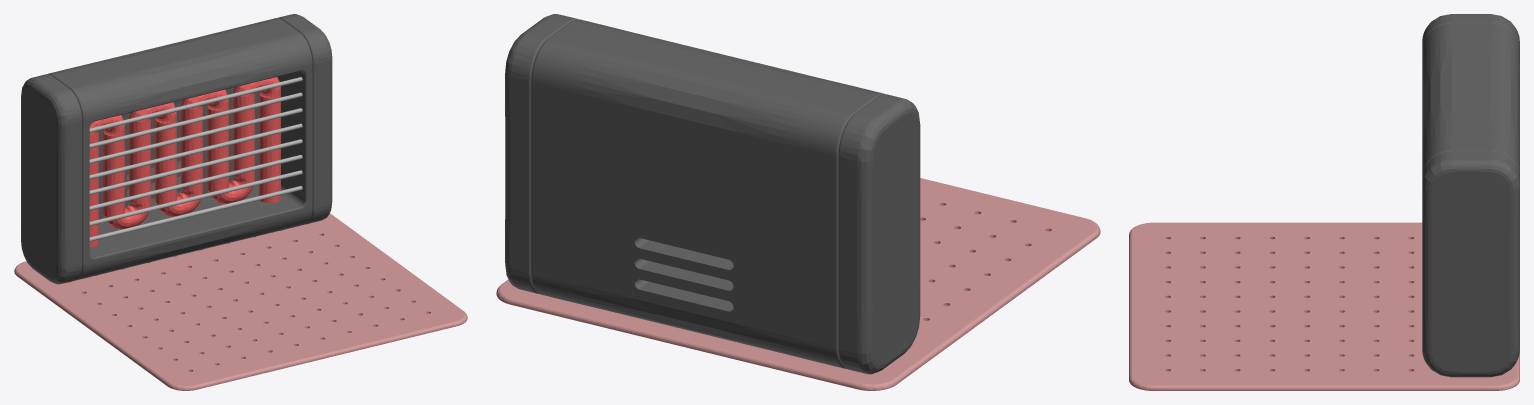
File: Heater.fbx
3 renders of one model, left to right at view 1: azimuth 30°, elevation 25°; view 2: azimuth 150°, elevation 25°; view 3: azimuth 270°, elevation 25°, orthographic. The views are drawn at different scales.
Visible parts, largest first — view 1: 개체_13, 개체_1, 개체_2, 개체_12, 개체_11, 개체_7, 개체_8, 개체_10, 개체_3, 개체_4, 개체_5, 개체_6 (+1 smaller); view 2: 개체_1, 개체_13, 개체_12, 개체_11; view 3: 개체_13, 개체_11, 개체_1, 개체_12.
Part boxes in pixels (box(x1,y1,x2,y2)): 개체_13: box(14, 213, 467, 390); 개체_1: box(47, 18, 312, 280); 개체_2: box(89, 77, 280, 247); 개체_12: box(21, 74, 82, 284); 개체_11: box(278, 14, 332, 223); 개체_7: box(89, 123, 302, 179); 개체_8: box(89, 108, 302, 163); 개체_10: box(89, 77, 302, 132); 개체_3: box(89, 186, 302, 241); 개체_4: box(89, 170, 302, 225); 개체_5: box(89, 155, 302, 210); 개체_6: box(89, 139, 302, 194); 개체_1: box(531, 19, 884, 368); 개체_13: box(496, 178, 1100, 390); 개체_12: box(838, 94, 920, 374); 개체_11: box(505, 14, 577, 293); 개체_13: box(1129, 222, 1519, 390); 개체_11: box(1422, 151, 1519, 377); 개체_1: box(1422, 23, 1519, 176); 개체_12: box(1422, 14, 1519, 48).
Bounding box in the file's own units: 800 × 500 × 800.
